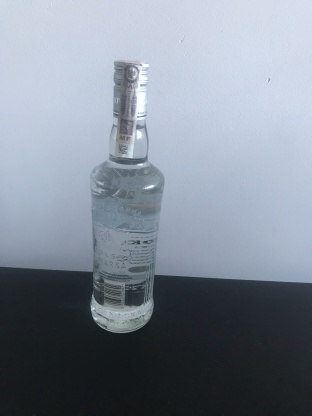nakretka: (110, 55, 151, 120)
